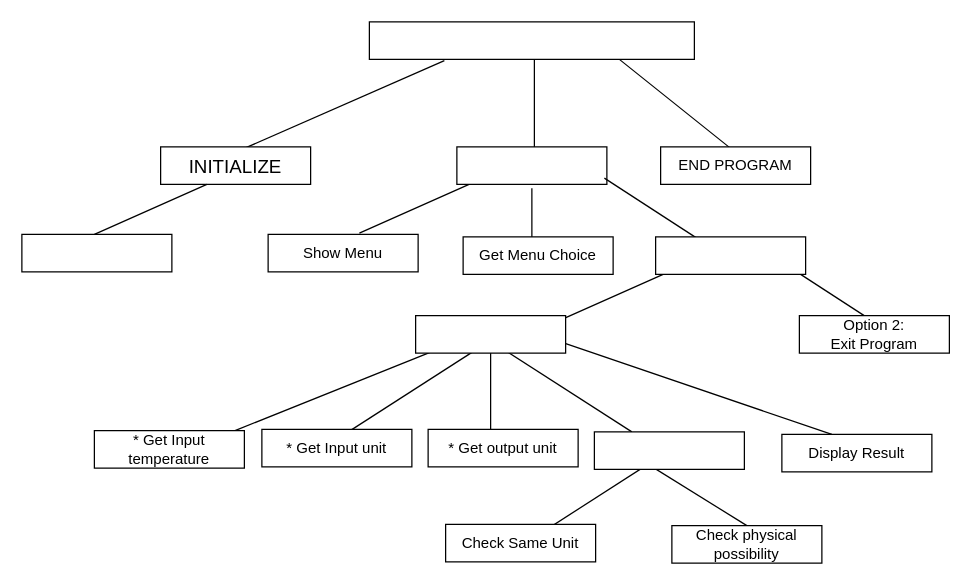
Some shapes in this 971 by 585 pixel diagram are drawn without their labels. Each missing label, with the centre of its shape:
*Main Loop: (x=531, y=165)
Check validity: (x=668, y=450)
Option 1: Convert temperature: (x=490, y=333)
Process Choice: (x=730, y=255)
Show Welcome Message: (x=96, y=252)
Temperature Converter: (x=531, y=40)
